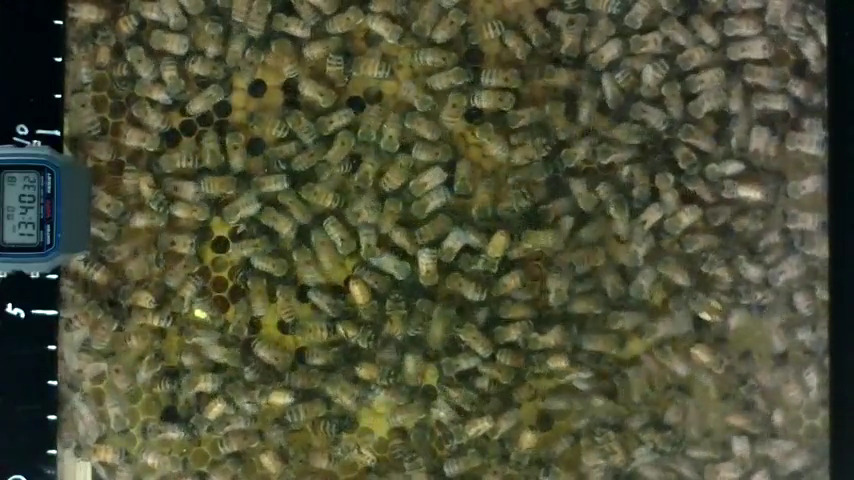hati: (183, 81, 222, 118), (224, 123, 250, 177), (473, 118, 507, 159), (297, 76, 338, 110), (367, 14, 406, 48), (470, 87, 518, 113), (477, 65, 525, 90), (346, 55, 392, 81), (153, 231, 201, 255), (408, 47, 460, 69), (118, 128, 162, 154), (416, 244, 439, 289), (149, 30, 188, 56), (197, 175, 242, 197), (465, 19, 503, 43), (276, 282, 297, 325)
